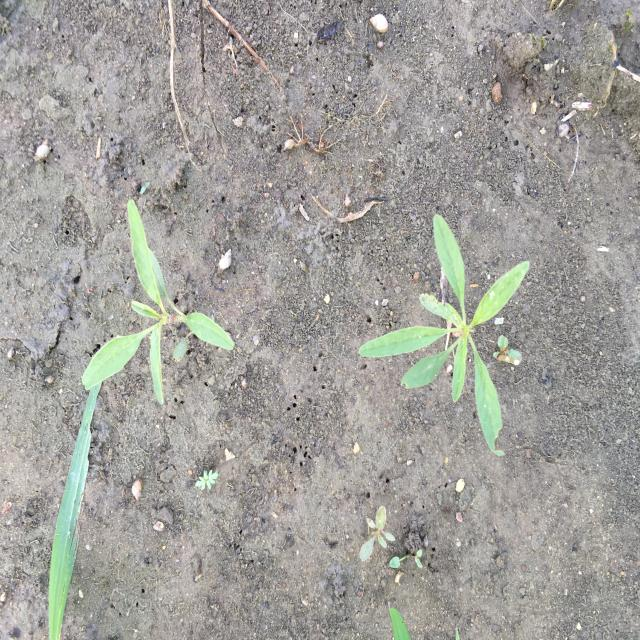Waterhemp: (358, 213, 532, 458), (80, 198, 236, 407)
